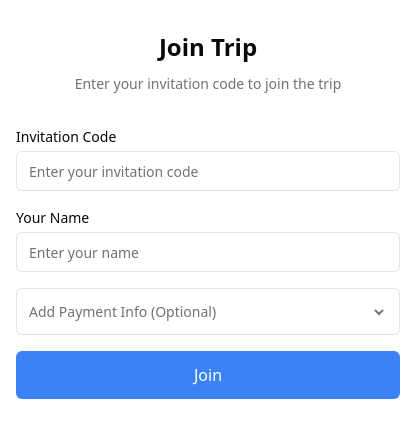
Test: JoinPage › form validation › should show error when invitation code is empty
Click the button "Join": (208, 375) [16,351,400,399]
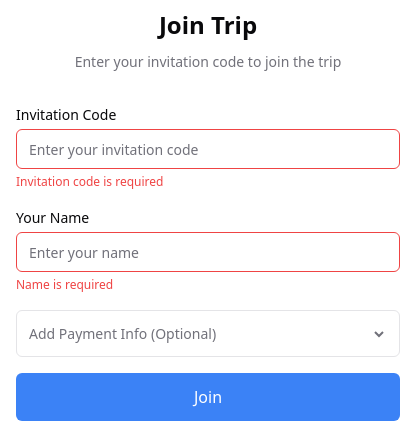
Check: the text "Invitation code is required" is shown, box [16,173,164,190]
